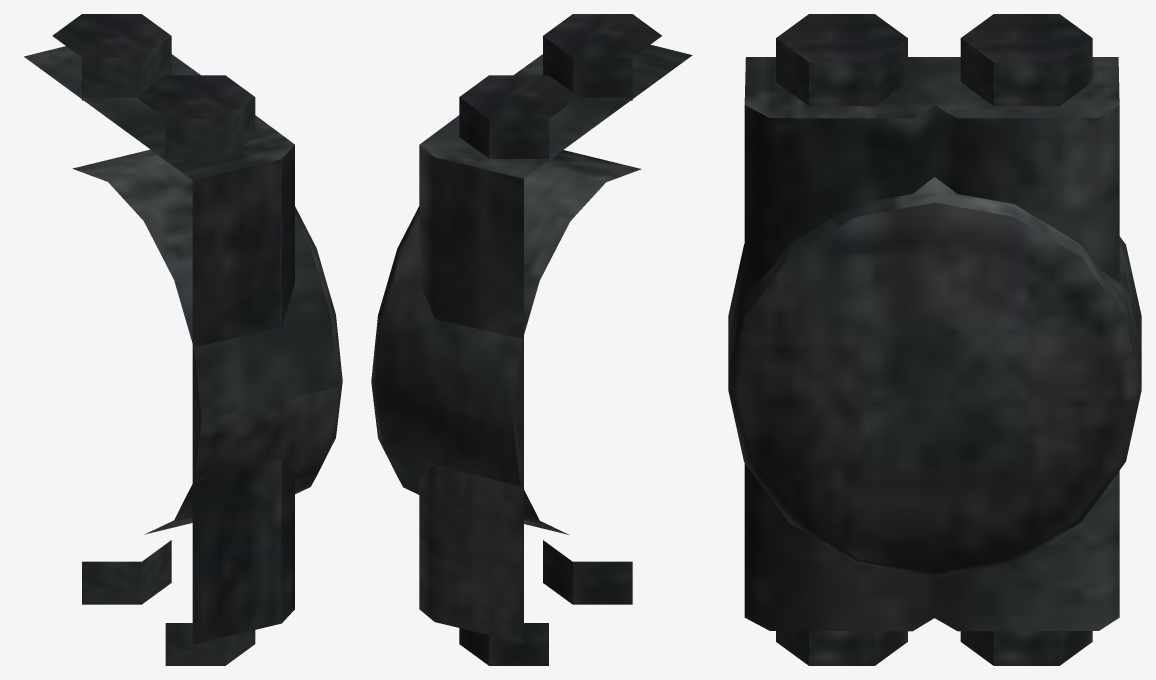
File: military_bunker_electrical_box.glb
The picture shows the model from 3 angles, left to right: view 1: azimuth 30°, elevation 25°; view 2: azimuth 150°, elevation 25°; view 3: azimuth 270°, elevation 25°; orthographic projection. The views are drawn at different scales.
Size of the model in its own units: 2 by 7.11 by 4.41.
1 material, 1 textured.
